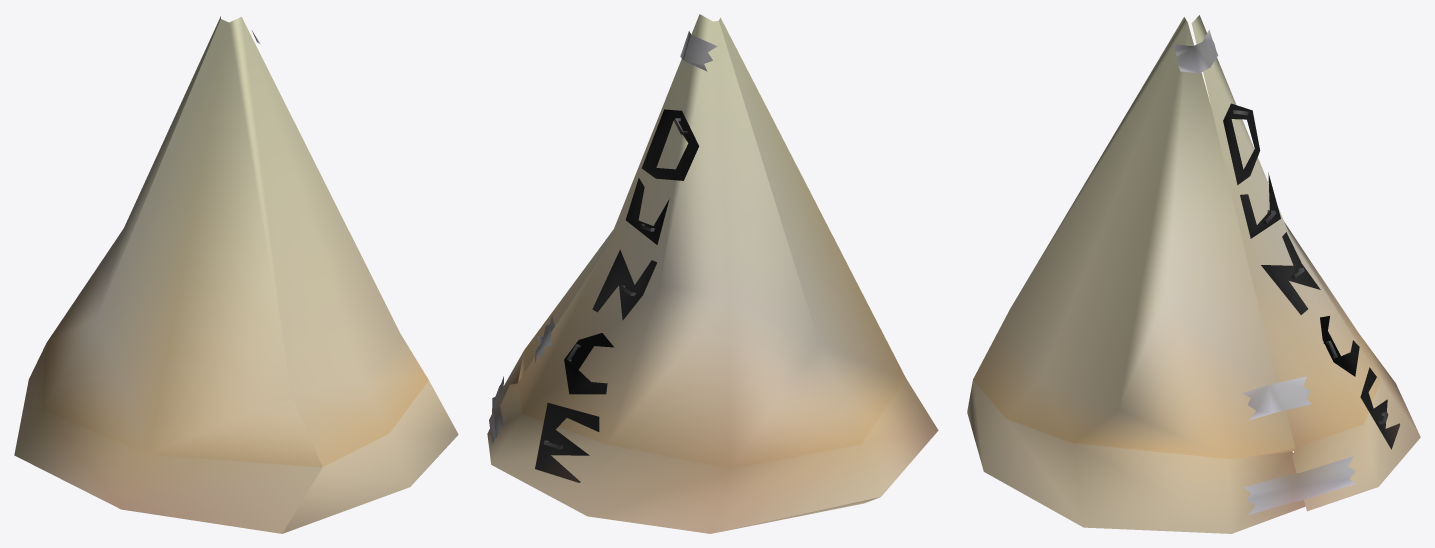
File: hat_dunce.glb
3 views of the same model, side by side, from view 1: azimuth 30°, elevation 25°; view 2: azimuth 150°, elevation 25°; view 3: azimuth 270°, elevation 25° (orthographic).
Visible parts, largest first — view 1: hat_dunce; view 2: hat_dunce; view 3: hat_dunce.
Boxes of the visible parts, x1,y1,x2,y2 form: hat_dunce: (14, 16, 458, 533); hat_dunce: (487, 14, 938, 533); hat_dunce: (967, 15, 1420, 533).
Bounding box in the file's own units: 0.2769 × 0.2891 × 0.2783.
